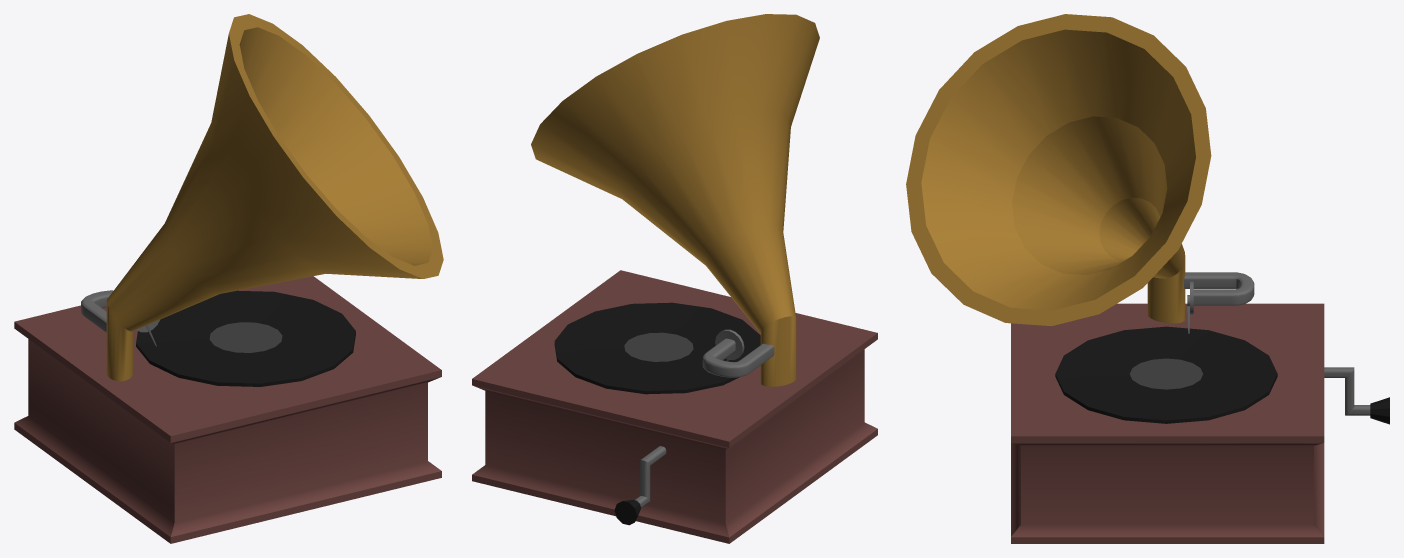
The model's file is fbx_gramophone.fbx.
The picture shows the model from 3 angles, left to right: view 1: azimuth 30°, elevation 25°; view 2: azimuth 150°, elevation 25°; view 3: azimuth 270°, elevation 25°; orthographic projection. The views are drawn at different scales.
Visible parts, largest first — view 1: fbx_gramophone; view 2: fbx_gramophone; view 3: fbx_gramophone.
Boxes of the visible parts, x1=… form: fbx_gramophone: x1=14, y1=14, x2=443, y2=543; fbx_gramophone: x1=472, y1=14, x2=877, y2=543; fbx_gramophone: x1=906, y1=14, x2=1389, y2=543.
Size of the model in its own units: 0.5797 by 0.8352 by 0.8186.
Materials: 1 (1 with a texture image).
